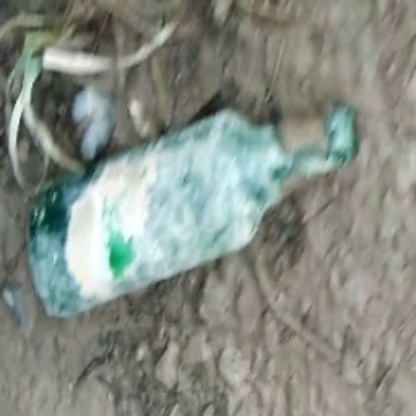bottle: (23, 102, 360, 315)
